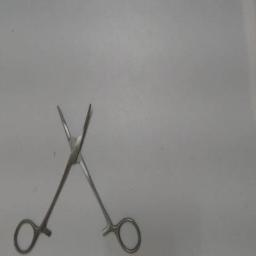Crile Artery Forceps: (10, 95, 142, 255)
